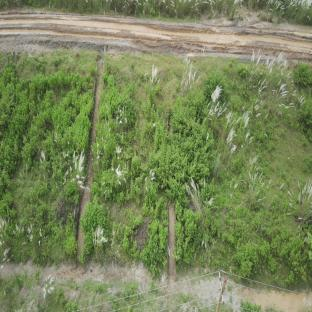slope_drain: (73, 62, 106, 257), (164, 116, 179, 277)
toe_drain: (93, 77, 138, 202)
vegetation: (1, 68, 92, 187), (154, 93, 213, 201), (84, 195, 110, 255), (141, 218, 166, 273), (178, 204, 199, 264)
